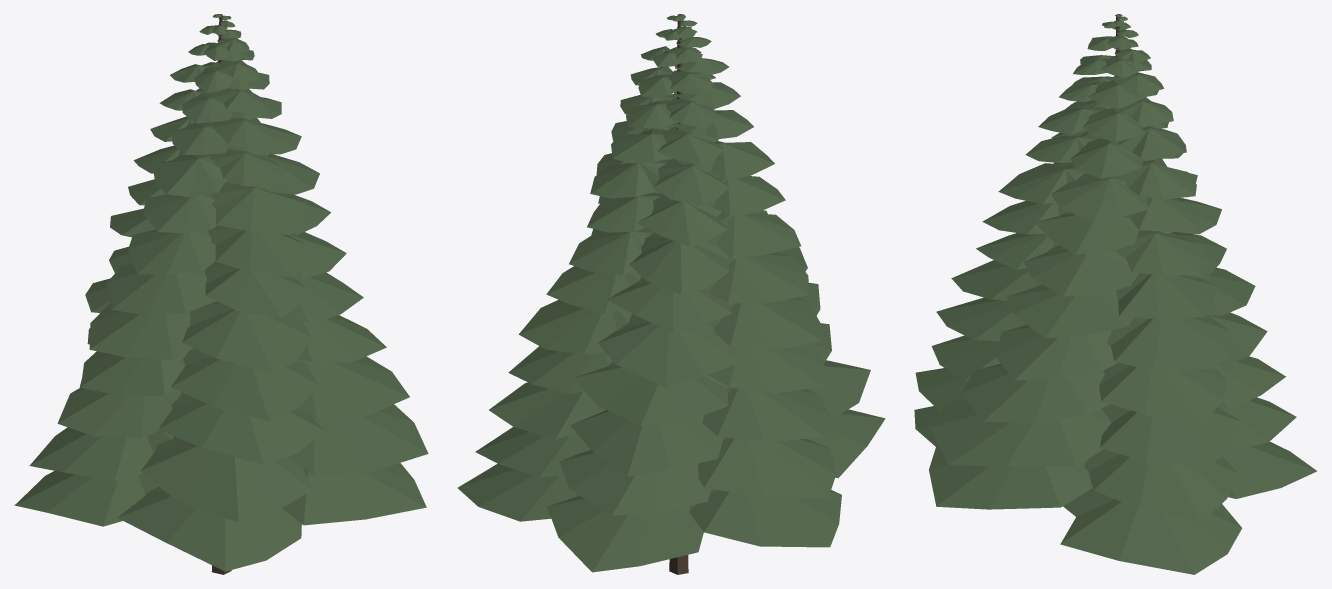
The picture shows the model from 3 angles, left to right: view 1: azimuth 30°, elevation 25°; view 2: azimuth 150°, elevation 25°; view 3: azimuth 270°, elevation 25°; orthographic projection. The views are drawn at different scales.
Visible parts, largest first — view 1: spruce; view 2: spruce; view 3: spruce.
Boxes of the visible parts, x1,y1,x2,y2 form: spruce: (14, 14, 428, 574); spruce: (457, 14, 885, 574); spruce: (914, 14, 1316, 574).
Bounding box in the file's own units: 13.36 × 19.69 × 13.36.
